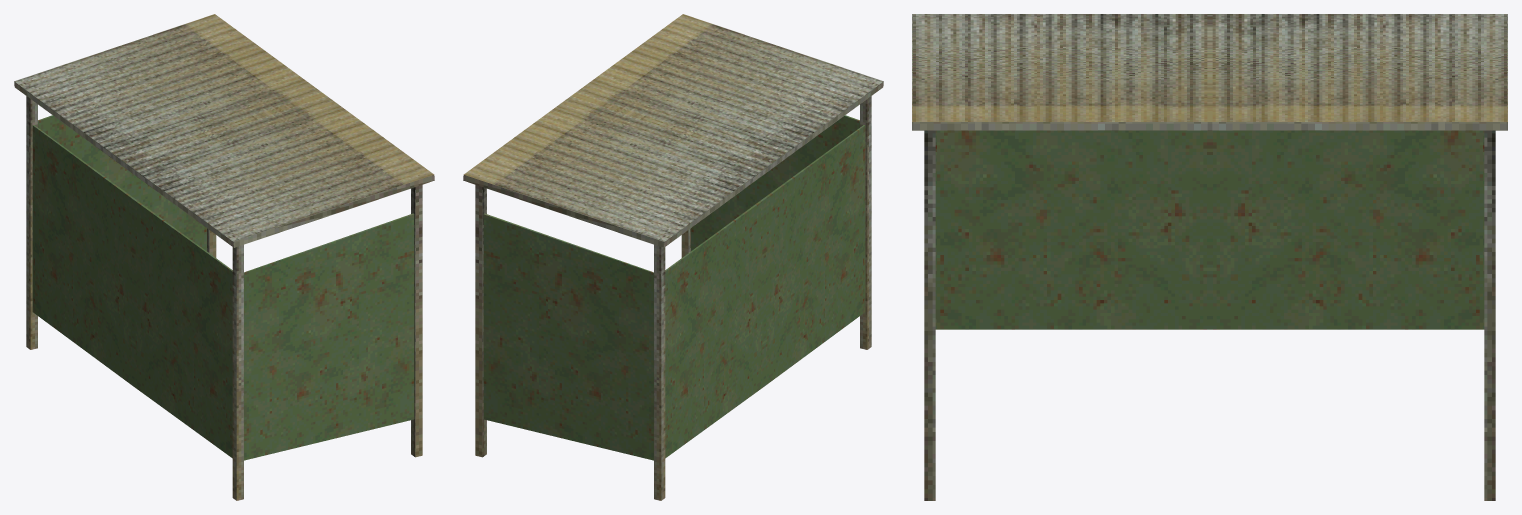
File: busstop_alt.glb
3 renders of one model, left to right at view 1: azimuth 30°, elevation 25°; view 2: azimuth 150°, elevation 25°; view 3: azimuth 270°, elevation 25°, orthographic. The views are drawn at different scales.
Parts seen in each view (by area): view 1: busstop_alt; view 2: busstop_alt; view 3: busstop_alt.
Boxes of the visible parts, x1,y1,x2,y2 form: busstop_alt: [14, 14, 434, 500]; busstop_alt: [463, 14, 883, 500]; busstop_alt: [912, 14, 1507, 500].
Size of the model in its own units: 2.26 by 3.03 by 4.26.
Materials: 1 (1 with a texture image).
